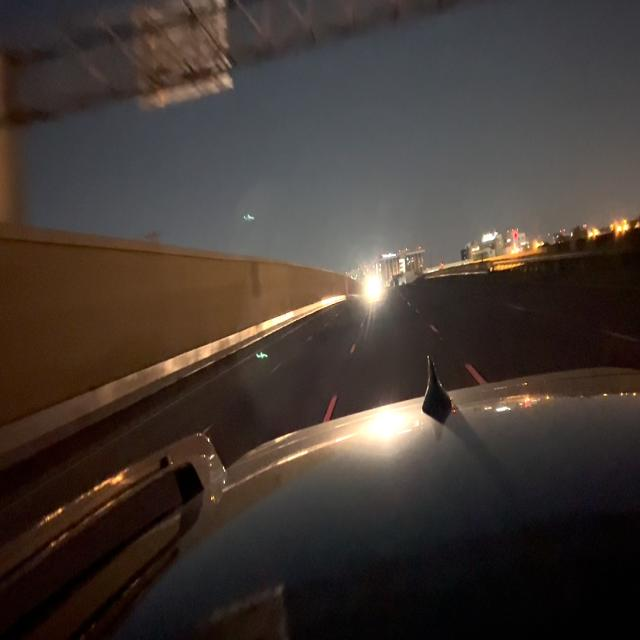back-of-sign: (127, 0, 232, 114)
